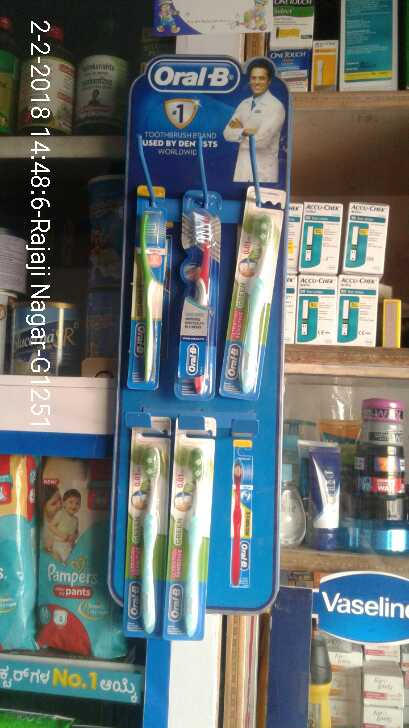pharmacy: (34, 455, 126, 663), (171, 442, 221, 639), (230, 202, 277, 389), (174, 207, 219, 394), (129, 438, 163, 647), (137, 207, 168, 378)
